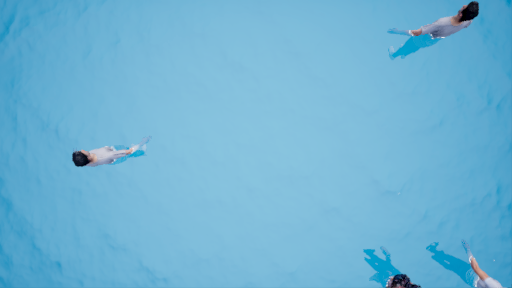person: (382, 1, 487, 66), (426, 232, 508, 288), (355, 234, 431, 288), (61, 133, 152, 167)
